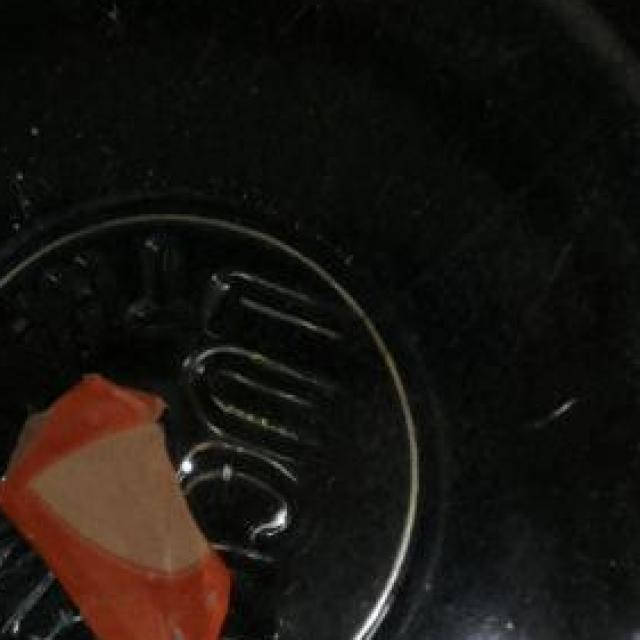Microplastic: (0, 380, 255, 640)
